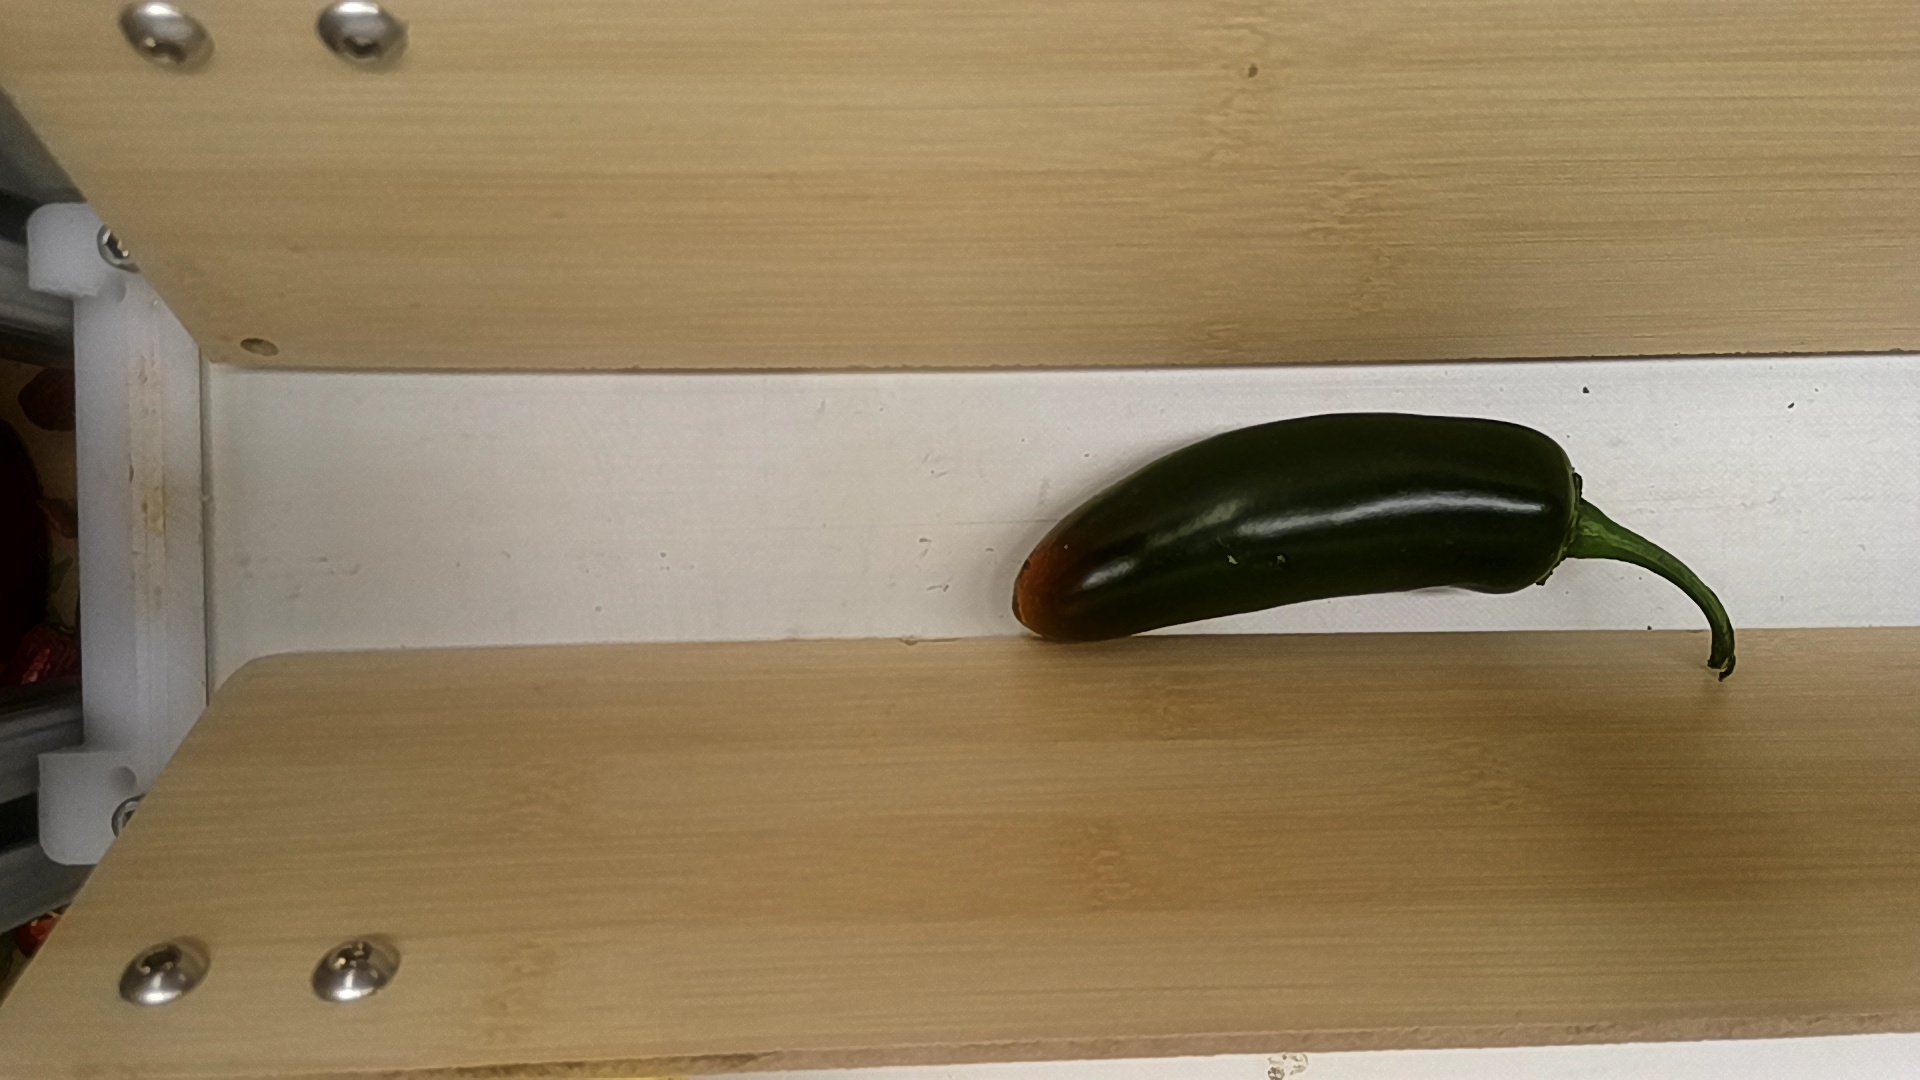Cut Point: (1520, 419, 1597, 596)
